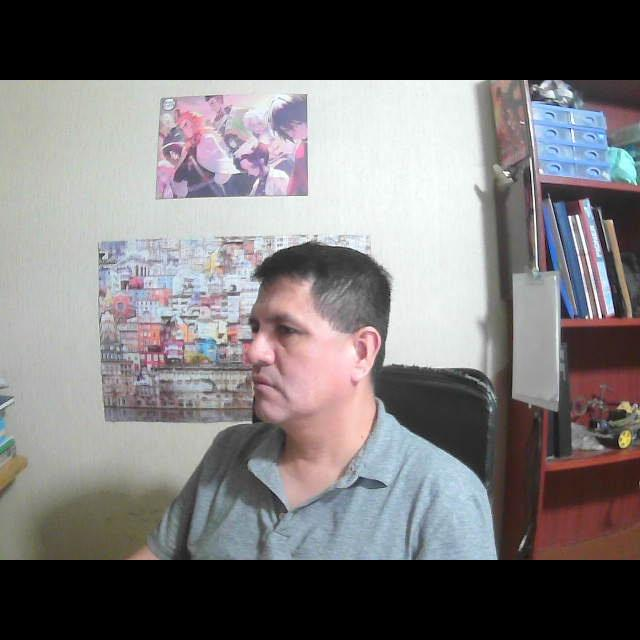cesar: (232, 234, 402, 446)
